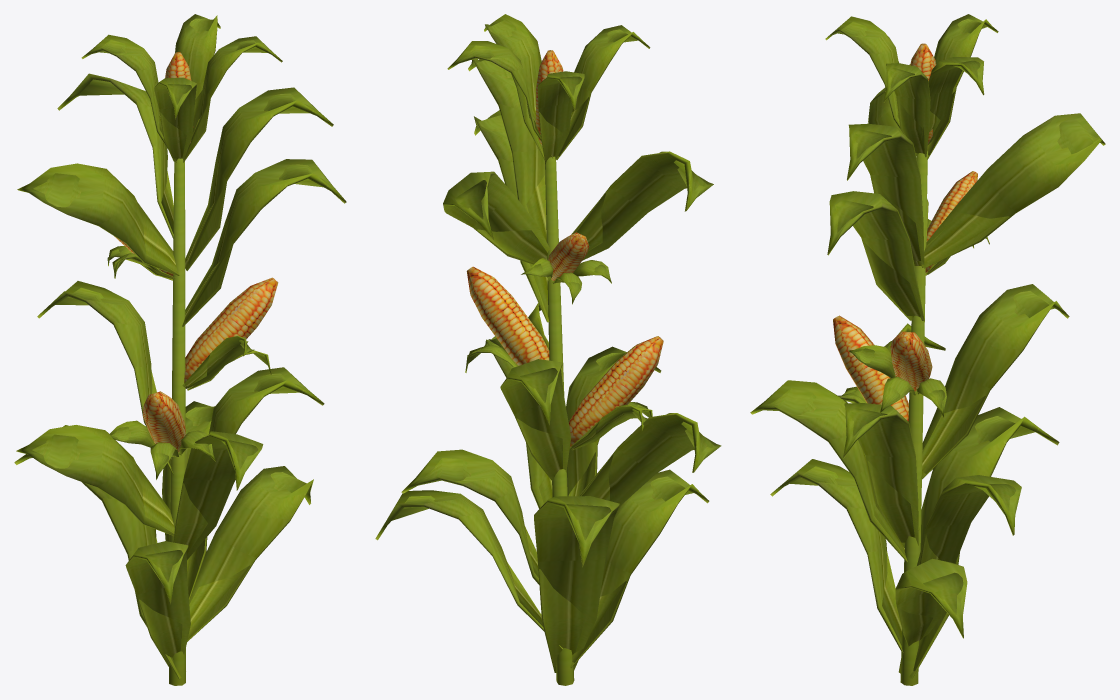
Rendered from corn.fbx.
3 renders of one model, left to right at view 1: azimuth 30°, elevation 25°; view 2: azimuth 150°, elevation 25°; view 3: azimuth 270°, elevation 25°, orthographic. The views are drawn at different scales.
Parts seen in each view (by area): view 1: corn; view 2: corn; view 3: corn.
Part boxes in pixels (x1,y1,x2,y2): corn: [14, 14, 346, 685]; corn: [375, 14, 721, 685]; corn: [750, 14, 1105, 685].
Size of the model in its own units: 0.1627 by 0.323 by 0.1598.
Materials: 1 (1 with a texture image).
